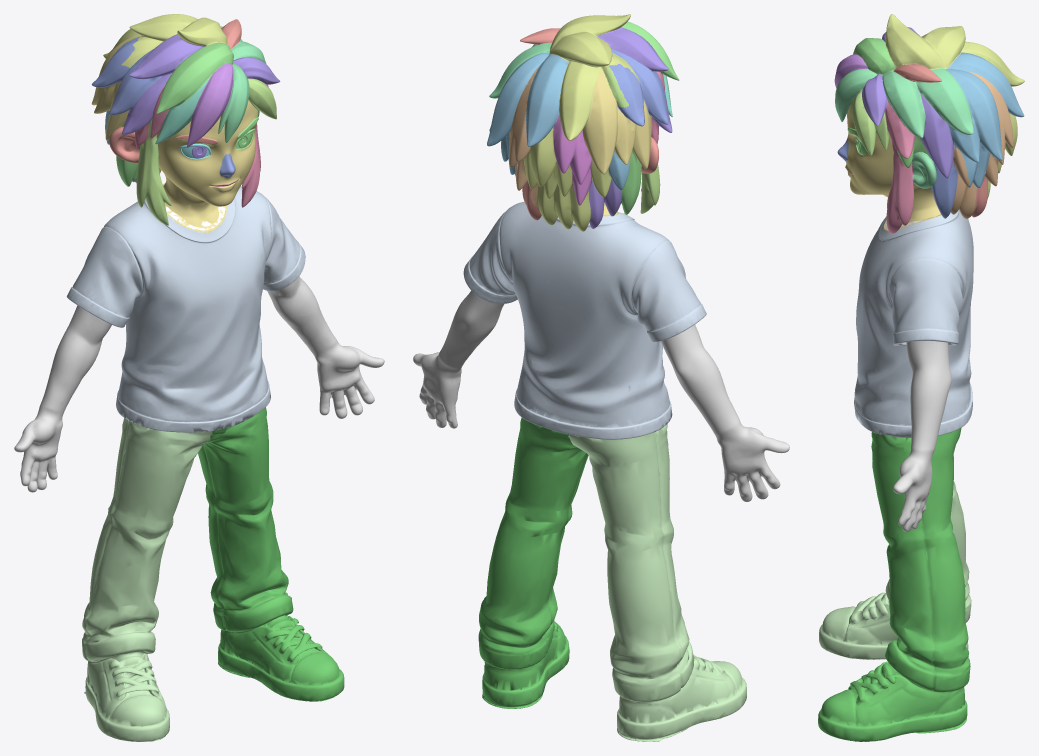
The picture shows the model from 3 angles, left to right: view 1: azimuth 30°, elevation 25°; view 2: azimuth 150°, elevation 25°; view 3: azimuth 270°, elevation 25°; orthographic projection. The views are drawn at different scales.
Parts seen in each view (by area): view 1: Torso_LOW, RightLeg_LOW, LeftLeg_LOW, RightArm_LOW, LeftArm_LOW, part_6_LOW, part_8_LOW, part_29_LOW, part_15_LOW, part_26_LOW, part_34_LOW, part_10_LOW (+8 smaller); view 2: Torso_LOW, RightLeg_LOW, LeftLeg_LOW, RightArm_LOW, part_8_LOW, LeftArm_LOW, part_25_LOW, part_5_LOW, part_9_LOW, part_26_LOW, part_35_LOW, part_29_LOW (+6 smaller); view 3: LeftLeg_LOW, Torso_LOW, LeftArm_LOW, RightLeg_LOW, part_25_LOW, part_20_LOW, part_8_LOW, part_38_LOW, part_6_LOW, part_4_LOW, part_32_LOW, part_13_LOW (+9 smaller).
Part boxes in pixels (x1,y1,x2,y2): Torso_LOW: (66, 186, 305, 432); RightLeg_LOW: (82, 418, 212, 741); LeftLeg_LOW: (198, 407, 344, 701); RightArm_LOW: (14, 305, 111, 492); LeftArm_LOW: (267, 276, 384, 418); part_6_LOW: (157, 100, 257, 206); part_8_LOW: (103, 14, 227, 67); part_29_LOW: (122, 34, 204, 134); part_15_LOW: (156, 42, 233, 113); part_26_LOW: (91, 37, 161, 114); part_34_LOW: (186, 63, 233, 147); part_10_LOW: (136, 119, 171, 225); Torso_LOW: (463, 201, 706, 439); RightLeg_LOW: (569, 424, 746, 741); LeftLeg_LOW: (478, 417, 588, 708); RightArm_LOW: (661, 324, 789, 501); part_8_LOW: (549, 14, 640, 140); LeftArm_LOW: (413, 290, 504, 428); part_25_LOW: (487, 52, 568, 174); part_5_LOW: (582, 70, 651, 174); part_9_LOW: (523, 127, 590, 231); part_26_LOW: (608, 49, 668, 126); part_35_LOW: (553, 113, 592, 205); part_29_LOW: (597, 27, 672, 132); LeftLeg_LOW: (818, 427, 970, 741); Torso_LOW: (854, 209, 973, 437); LeftArm_LOW: (893, 341, 951, 531); RightLeg_LOW: (819, 481, 971, 659); part_25_LOW: (946, 52, 1024, 188); part_20_LOW: (880, 68, 973, 137); part_8_LOW: (885, 14, 1024, 86); part_38_LOW: (885, 101, 915, 233); part_6_LOW: (845, 100, 931, 194); part_4_LOW: (951, 72, 1013, 218); part_32_LOW: (917, 88, 954, 178); part_13_LOW: (852, 90, 889, 155).
Bounding box in the file's own units: 0.5541 × 0.9682 × 0.2741.
